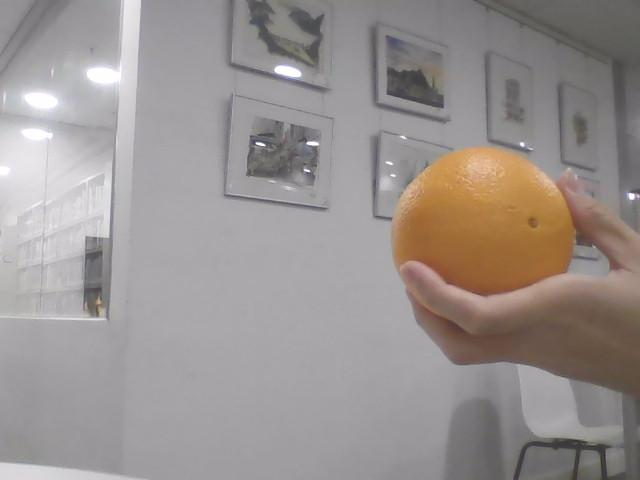orange: (392, 146, 576, 311)
